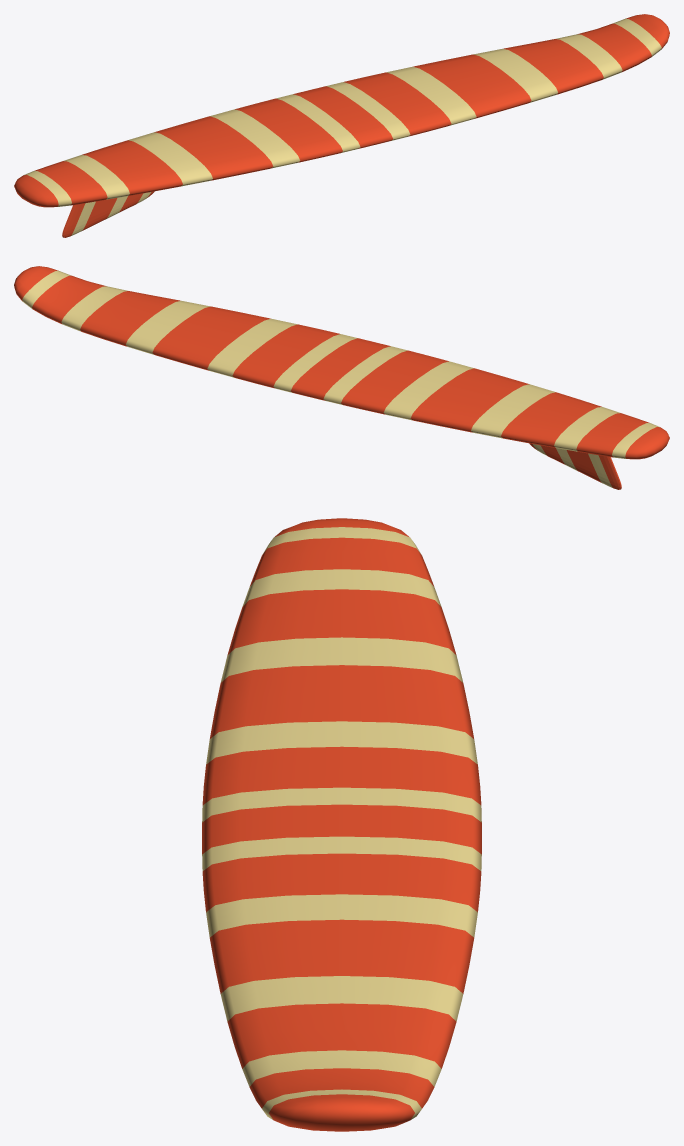
The model's file is surfingBoardRed.fbx.
The picture shows the model from 3 angles, top to bottom: view 1: azimuth 30°, elevation 25°; view 2: azimuth 150°, elevation 25°; view 3: azimuth 270°, elevation 25°; orthographic projection. The views are drawn at different scales.
Parts seen in each view (by area): view 1: Surf; view 2: Surf; view 3: Surf.
Boxes of the visible parts, x1,y1,x2,y2 form: Surf: [14, 14, 669, 237]; Surf: [14, 266, 669, 489]; Surf: [202, 518, 481, 1131].
Bounding box in the file's own units: 638 × 71 × 121.
